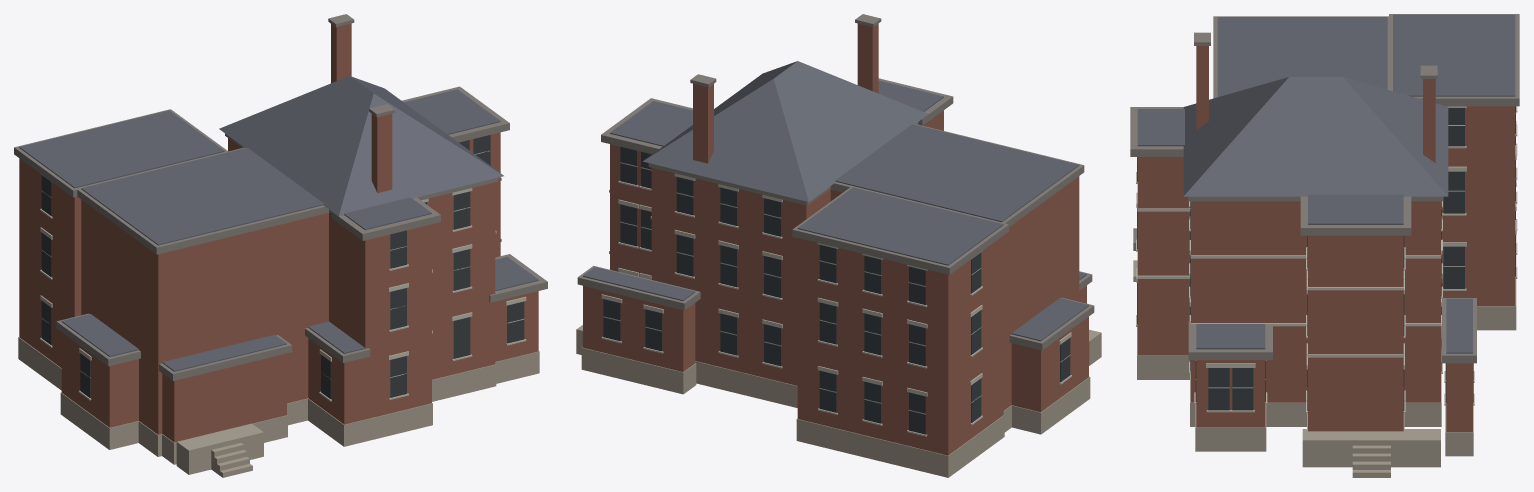
Rendered from house_2032_calumet__draft_1904.glb.
The picture shows the model from 3 angles, left to right: view 1: azimuth 30°, elevation 25°; view 2: azimuth 150°, elevation 25°; view 3: azimuth 270°, elevation 25°; orthographic projection. The views are drawn at different scales.
Parts seen in each view (by area): view 1: house_2032_calumet__draft_1904; view 2: house_2032_calumet__draft_1904; view 3: house_2032_calumet__draft_1904.
Part boxes in pixels (x1=…): house_2032_calumet__draft_1904: x1=14, y1=14, x2=547, y2=477; house_2032_calumet__draft_1904: x1=576, y1=14, x2=1101, y2=477; house_2032_calumet__draft_1904: x1=1130, y1=14, x2=1519, y2=477.
Bounding box in the file's own units: 27.15 × 17.17 × 18.3.
